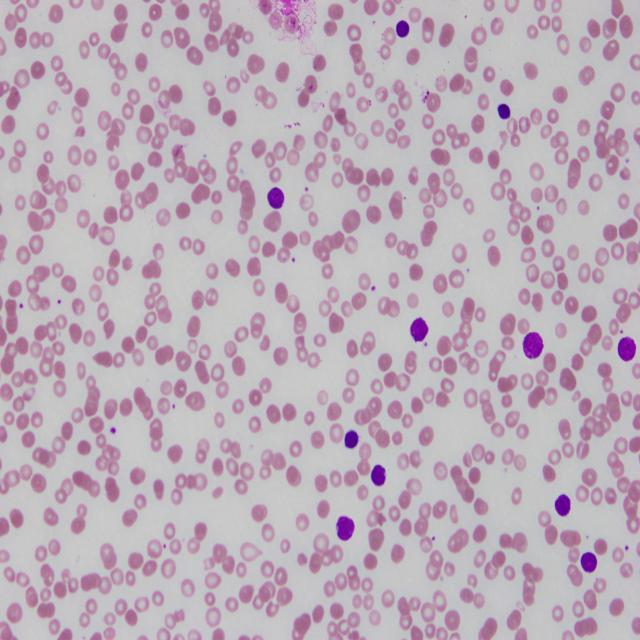cell: (522, 332, 544, 358), (410, 317, 429, 342), (618, 337, 636, 362), (336, 517, 355, 540), (580, 552, 598, 573), (555, 493, 570, 517), (268, 187, 284, 208), (371, 465, 385, 486), (396, 20, 410, 38), (345, 430, 359, 448), (498, 103, 510, 120)
